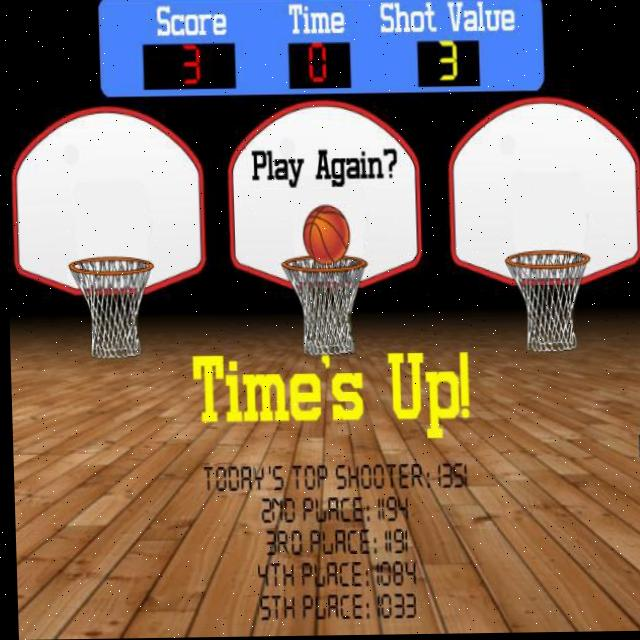basketball: (302, 203, 351, 265)
hoop: (505, 249, 593, 353), (68, 257, 156, 360), (281, 255, 370, 355)
